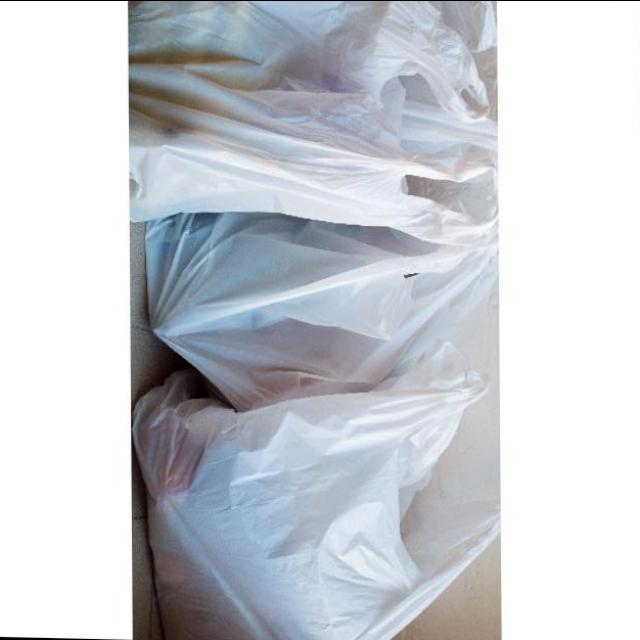plastik: (134, 344, 499, 640), (130, 0, 497, 245), (146, 213, 497, 407)
